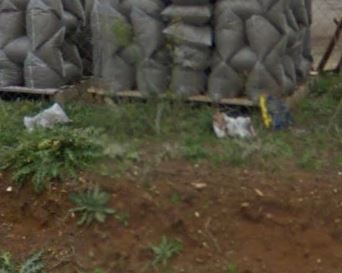trash: (255, 88, 299, 133), (19, 103, 72, 139), (210, 107, 257, 147)
